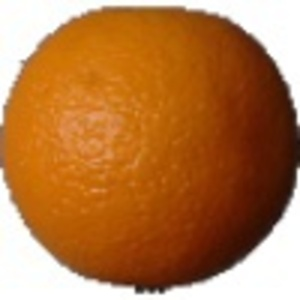laranja: (2, 3, 296, 294)
